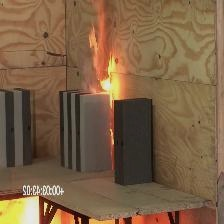fire: (88, 24, 125, 130)
